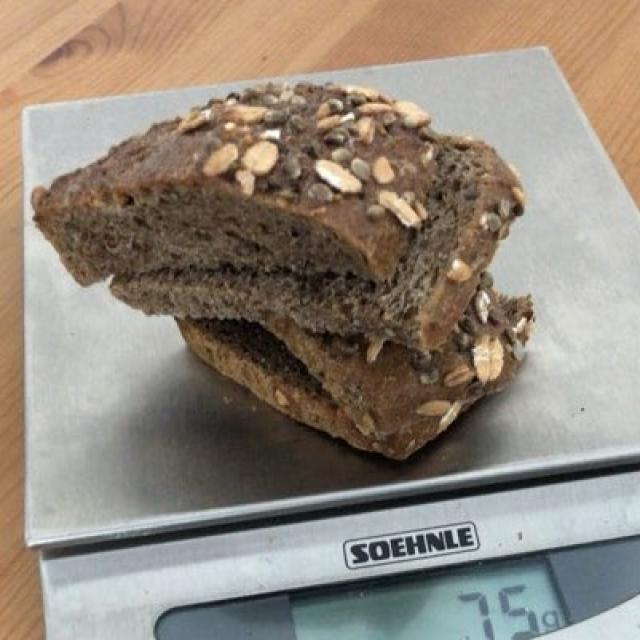bread: (45, 87, 524, 455)
